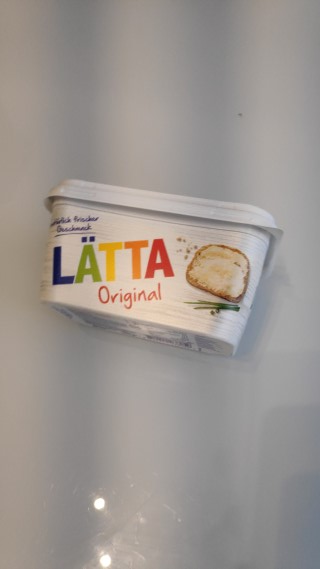laetta: (37, 177, 284, 359)
